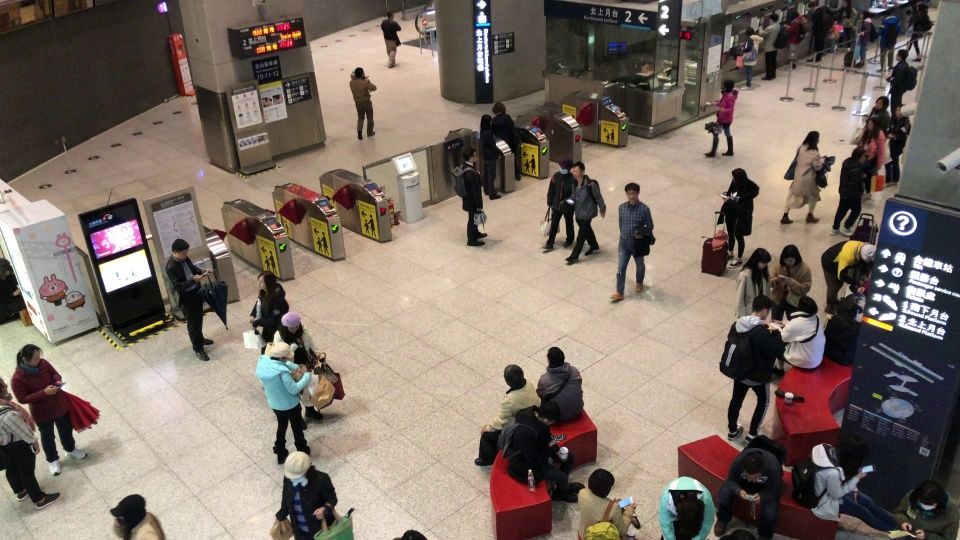person_head: (117, 493, 145, 528), (284, 451, 312, 484), (588, 468, 615, 499), (842, 436, 869, 463), (917, 484, 940, 513), (740, 453, 763, 481), (676, 502, 703, 524), (750, 294, 772, 319), (538, 401, 560, 424), (750, 247, 771, 271), (19, 343, 41, 365), (779, 244, 801, 266), (503, 363, 524, 386), (170, 238, 190, 260), (270, 341, 292, 361), (281, 312, 300, 333), (797, 297, 818, 315), (257, 271, 276, 290), (623, 182, 641, 202), (547, 346, 564, 366), (861, 243, 877, 263), (803, 130, 820, 147), (572, 161, 587, 179), (0, 258, 13, 278), (461, 147, 477, 163), (732, 168, 747, 184), (558, 157, 572, 174), (873, 95, 889, 109), (895, 104, 909, 119), (866, 117, 879, 133), (491, 101, 506, 114), (851, 148, 866, 161), (721, 79, 734, 93), (895, 49, 909, 62), (480, 114, 492, 129), (0, 378, 8, 394), (806, 1, 818, 11), (354, 67, 364, 78), (916, 2, 928, 11), (744, 26, 755, 35), (768, 13, 779, 22), (790, 11, 799, 20), (883, 9, 892, 18), (860, 10, 870, 18), (386, 11, 394, 19), (841, 0, 849, 7)
person_vbox: (791, 436, 897, 533), (10, 343, 87, 476), (717, 294, 782, 442), (496, 401, 585, 504), (0, 378, 60, 510), (713, 434, 787, 540), (474, 364, 541, 466), (255, 342, 311, 464), (273, 310, 327, 430), (162, 238, 213, 361), (275, 451, 338, 540), (608, 182, 654, 301), (771, 296, 826, 382), (577, 468, 641, 540), (716, 168, 760, 269), (780, 130, 826, 226), (819, 240, 876, 315), (889, 479, 959, 540), (564, 162, 606, 263), (449, 147, 488, 247), (536, 346, 584, 424), (657, 476, 715, 540), (247, 271, 289, 356), (540, 156, 576, 251), (769, 244, 811, 321), (830, 147, 866, 236), (702, 79, 739, 159), (733, 247, 771, 319), (109, 493, 165, 540), (490, 102, 522, 182), (881, 103, 911, 188), (856, 117, 886, 202), (882, 49, 918, 118), (349, 66, 377, 140), (758, 13, 788, 82), (479, 113, 501, 200), (0, 257, 26, 325), (783, 10, 811, 72), (904, 1, 932, 63), (826, 0, 857, 55), (737, 26, 763, 91), (806, 1, 832, 64), (877, 10, 901, 74), (860, 95, 890, 143), (853, 10, 874, 69), (381, 10, 401, 67)
